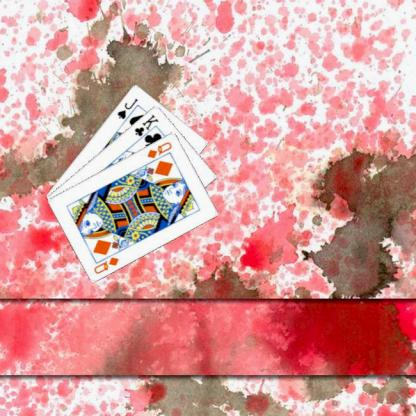JS: (114, 96, 139, 121)
KC: (132, 111, 160, 143)
QD: (144, 138, 173, 160), (91, 254, 120, 276)
